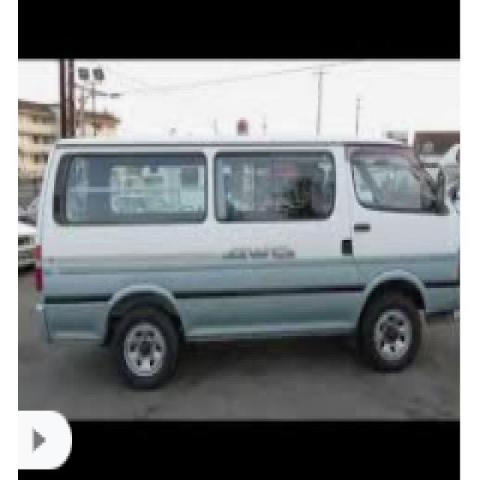van: (35, 133, 460, 380)
